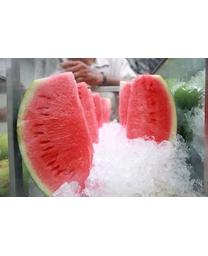watermelon: (17, 70, 112, 194), (118, 74, 175, 149)
